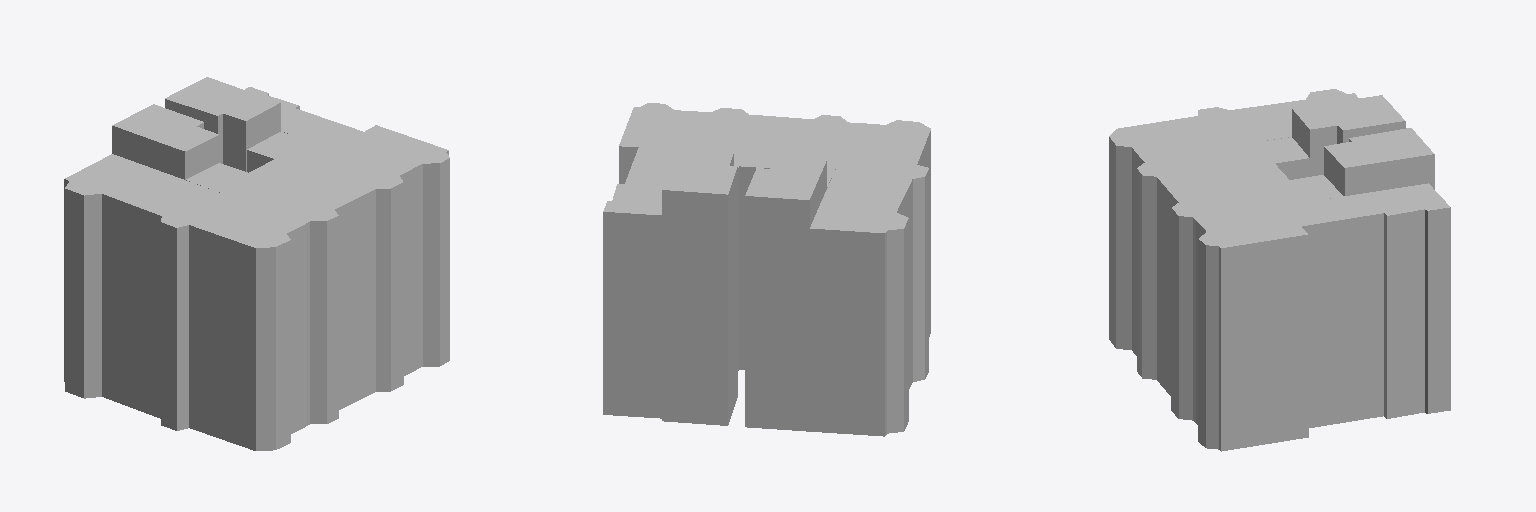
File: multifamily_4.obj
The picture shows the model from 3 angles: view 1: azimuth 30°, elevation 25°; view 2: azimuth 150°, elevation 25°; view 3: azimuth 270°, elevation 25°; orthographic projection.
Parts seen in each view (by area): view 1: object_1, object_2, object_5, object_4, object_3; view 2: object_1, object_3, object_5, object_4, object_2; view 3: object_5, object_2, object_1, object_3, object_4.
Part boxes in pixels (x1,y1,x2,y2): object_1: (64, 154, 305, 450); object_2: (186, 131, 403, 425); object_5: (245, 87, 449, 375); object_4: (112, 104, 219, 179); object_3: (165, 77, 280, 171); object_1: (810, 120, 930, 436); object_3: (662, 150, 737, 425); object_5: (603, 103, 703, 418); object_4: (745, 157, 826, 431); object_2: (690, 108, 855, 370); object_5: (1196, 183, 1450, 451); object_2: (1137, 137, 1342, 422); object_1: (1109, 89, 1358, 355); object_3: (1324, 128, 1434, 195); object_4: (1292, 95, 1405, 176).
Bounding box in the file's own units: 133 × 90 × 120.